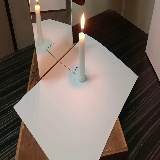fire: (80, 13, 84, 34)
